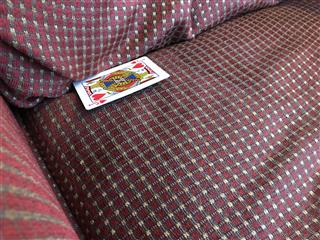JackOfHearts: (72, 55, 170, 109)
